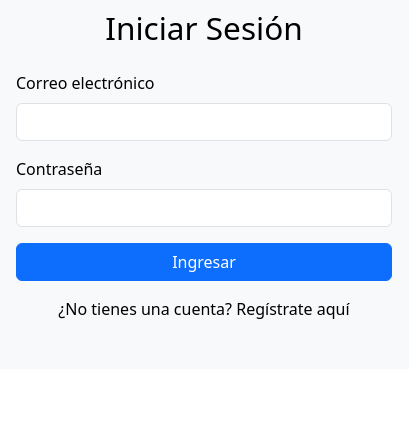
Scenario: Componente Login › muestra error si el correo está vacío
This screenshot has width=409, height=434.
Click the button "Ingresar" at (204, 262), box [16,243,392,281]
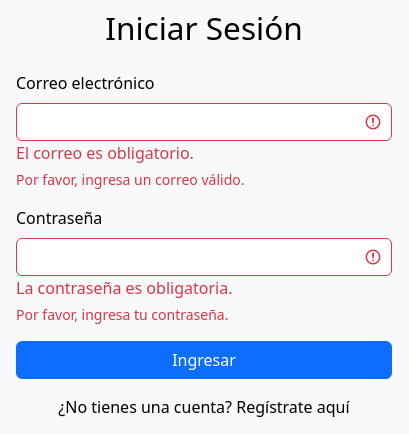
Expected: the text "El correo es obligatorio." is shown, [16,142,194,164]
